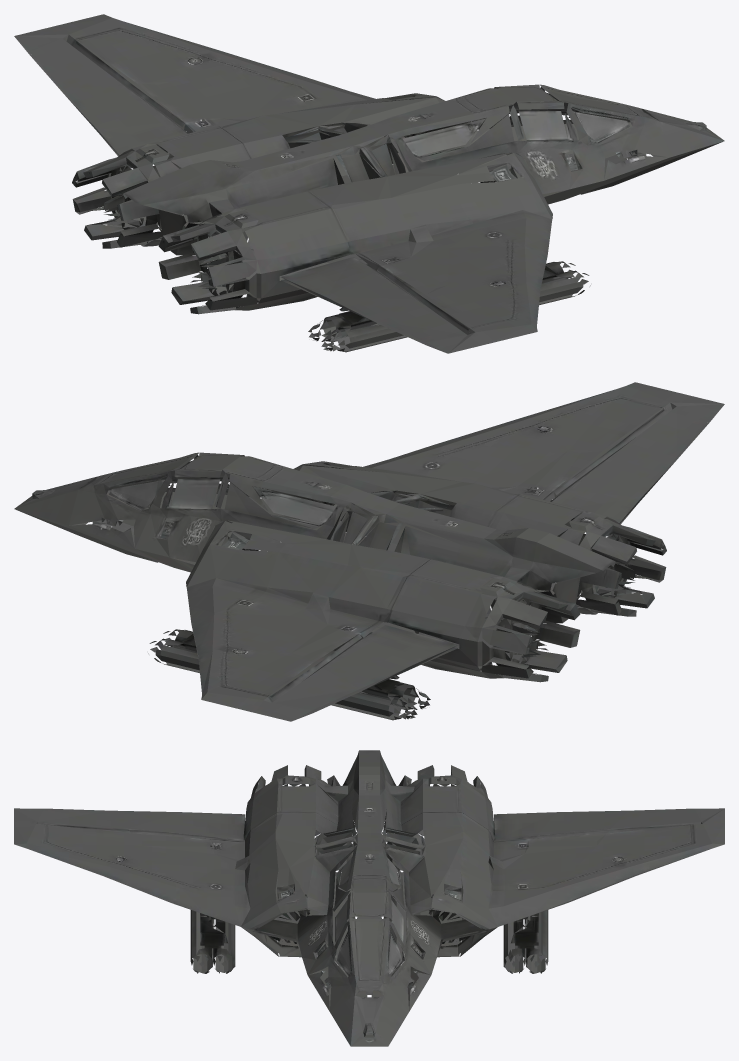
The model's file is specter_LOD1.glb.
3 renders of one model, top to bottom at view 1: azimuth 30°, elevation 25°; view 2: azimuth 150°, elevation 25°; view 3: azimuth 270°, elevation 25°, orthographic. The views are drawn at different scales.
Parts seen in each view (by area): view 1: specter_LOD1; view 2: specter_LOD1; view 3: specter_LOD1.
Boxes of the visible parts, box(x1,y1,x2,y2) form: specter_LOD1: box(14, 14, 724, 353); specter_LOD1: box(14, 382, 724, 721); specter_LOD1: box(14, 750, 724, 1046).
Size of the model in its own units: 0.7769 by 0.1507 by 1.
1 material, 1 textured.
